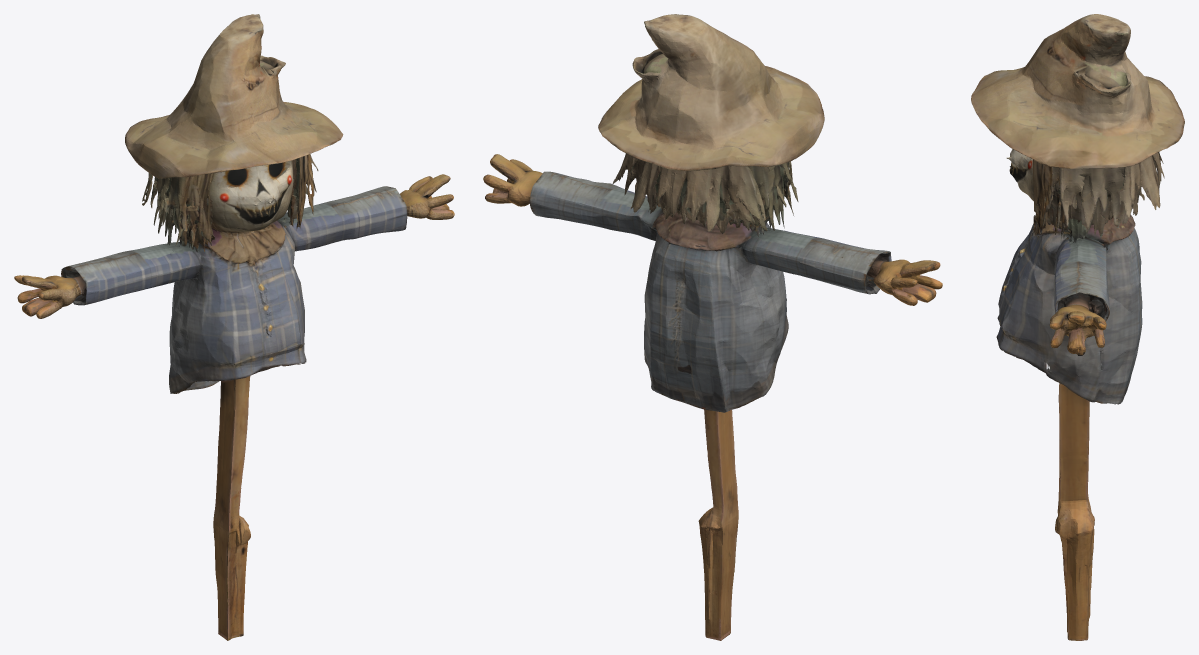
The model's file is pooky_scarecrow_one_0402144455_texture.fbx.
3 views of the same model, side by side, from view 1: azimuth 30°, elevation 25°; view 2: azimuth 150°, elevation 25°; view 3: azimuth 270°, elevation 25° (orthographic). The views are drawn at different scales.
Visible parts, largest first — view 1: temp; view 2: temp; view 3: temp.
Part boxes in pixels (x1,y1,x2,y2): temp: [14, 14, 454, 640]; temp: [483, 14, 942, 640]; temp: [971, 14, 1184, 640].
Size of the model in its own units: 149 by 200 by 61.48.
Materials: 1 (1 with a texture image).
